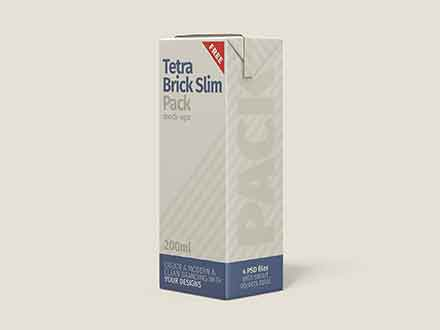Medicine: (147, 28, 296, 308)
